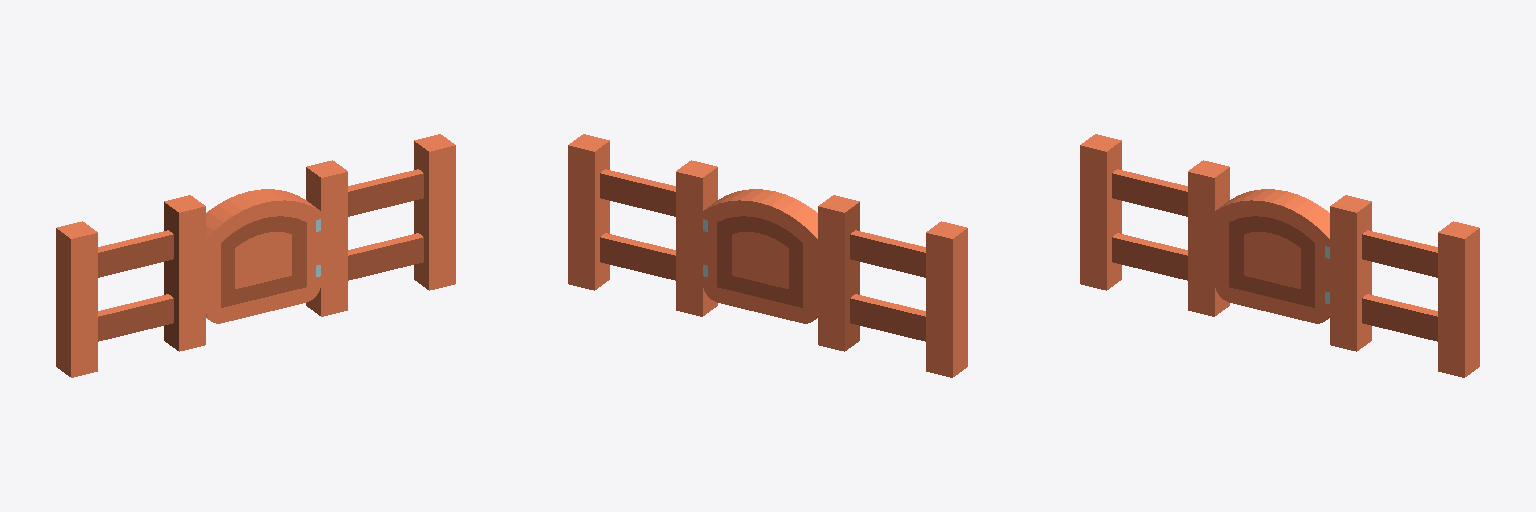
File: fence_gate.obj
3 renders of one model, left to right at view 1: azimuth 30°, elevation 25°; view 2: azimuth 150°, elevation 25°; view 3: azimuth 330°, elevation 25°, orthographic.
Visible parts, largest first — view 1: fence_gate, gate; view 2: fence_gate, gate; view 3: fence_gate, gate.
Boxes of the visible parts, x1=… form: fence_gate: x1=56, y1=134, x2=455, y2=377; gate: x1=206, y1=189, x2=320, y2=323; fence_gate: x1=568, y1=134, x2=967, y2=377; gate: x1=703, y1=189, x2=817, y2=323; fence_gate: x1=1080, y1=134, x2=1479, y2=377; gate: x1=1215, y1=189, x2=1329, y2=323.
Bounding box in the file's own units: 1 × 0.345 × 0.07.